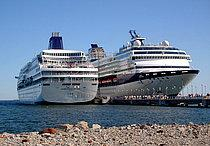Ship: (82, 27, 201, 105), (11, 32, 105, 108)
